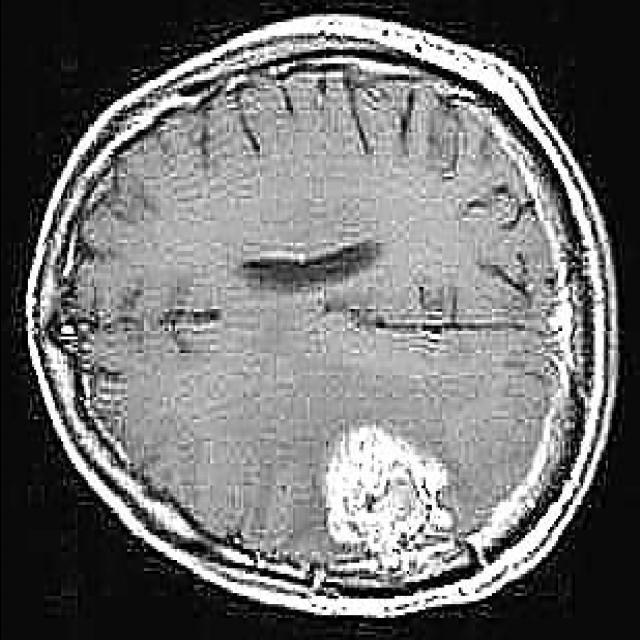tumor: (321, 422, 476, 601)
